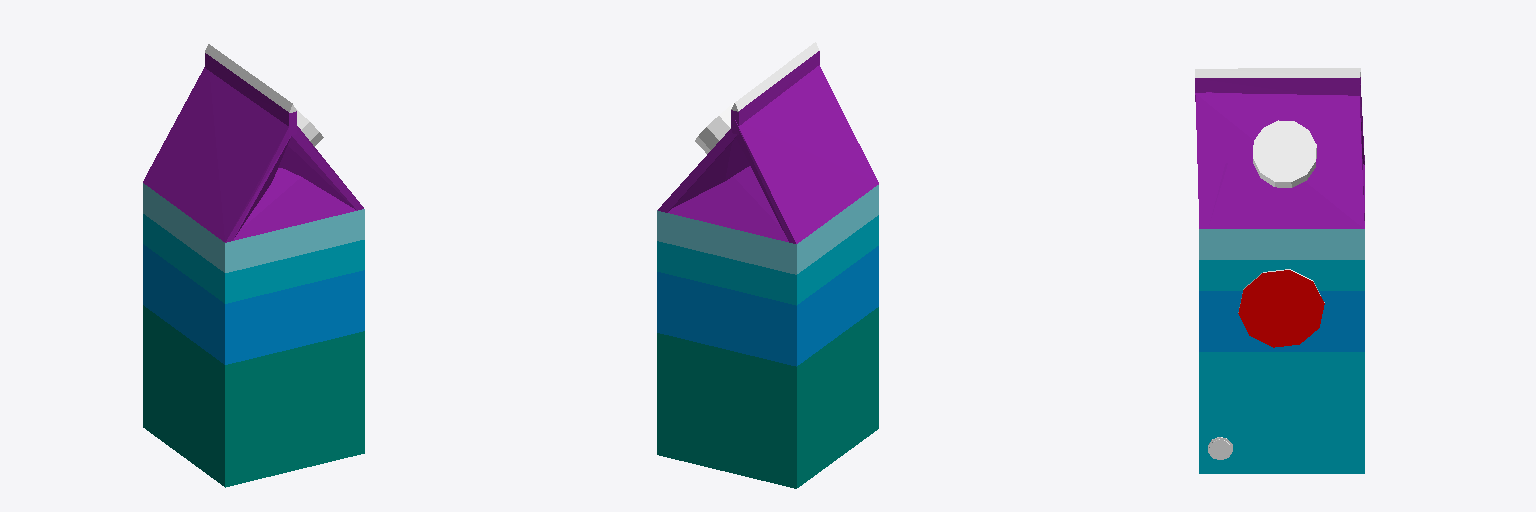
Rendered from LecheEstampillaRoja.obj.
3 views of the same model, side by side, from view 1: azimuth 30°, elevation 25°; view 2: azimuth 150°, elevation 25°; view 3: azimuth 270°, elevation 25° (orthographic).
Parts seen in each view (by area): view 1: group[number redacted], group[number redacted], group[number redacted], group[number redacted], group[number redacted], group[number redacted]; view 2: group[number redacted], group[number redacted], group[number redacted], group[number redacted], group[number redacted], group[number redacted], group[number redacted], group[number redacted]; view 3: group[number redacted], group[number redacted], group[number redacted], group[number redacted], group[number redacted].
Boxes of the visible parts, <box> form: group[number redacted]: <box>143,183,364,487</box>; group[number redacted]: <box>143,67,289,241</box>; group[number redacted]: <box>233,168,356,240</box>; group[number redacted]: <box>205,44,296,135</box>; group[number redacted]: <box>278,130,363,210</box>; group[number redacted]: <box>225,136,290,242</box>; group[number redacted]: <box>657,185,878,488</box>; group[number redacted]: <box>735,65,878,243</box>; group[number redacted]: <box>668,166,788,241</box>; group[number redacted]: <box>731,42,819,134</box>; group[number redacted]: <box>673,138,749,207</box>; group[number redacted]: <box>658,129,736,212</box>; group[number redacted]: <box>695,100,737,153</box>; group[number redacted]: <box>736,129,795,243</box>; group[number redacted]: <box>1199,229,1364,473</box>; group[number redacted]: <box>1195,93,1364,228</box>; group[number redacted]: <box>1238,269,1324,347</box>; group[number redacted]: <box>1195,68,1360,101</box>; group[number redacted]: <box>1253,120,1316,187</box>.
Size of the model in its own units: 0.377 by 0.9362 by 0.39.